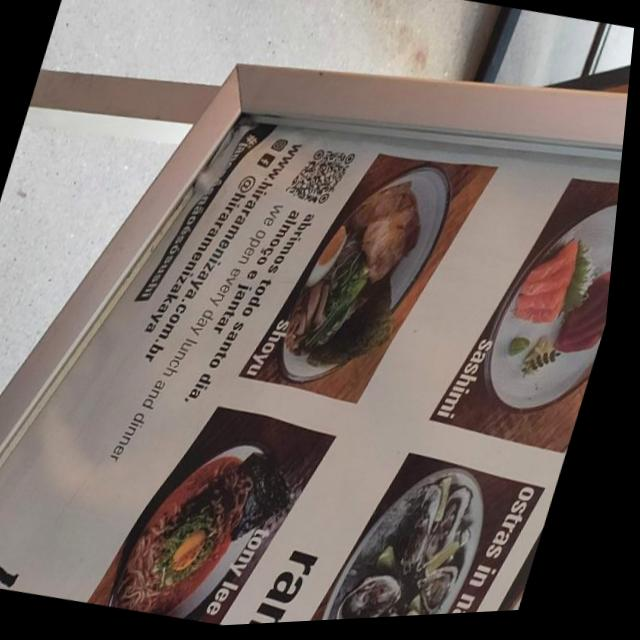qrcode: (286, 146, 360, 214)
